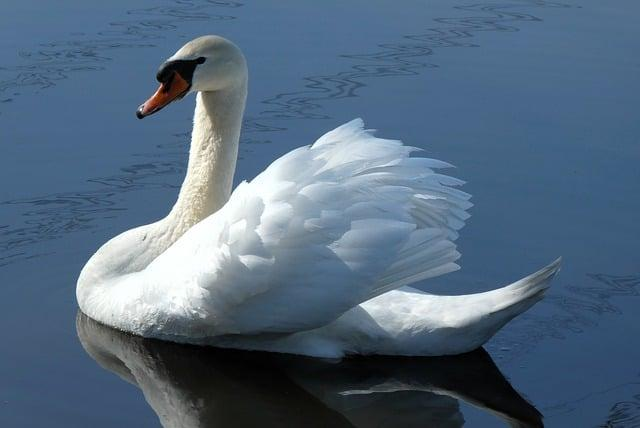Non_Gorille: (51, 35, 567, 369)
